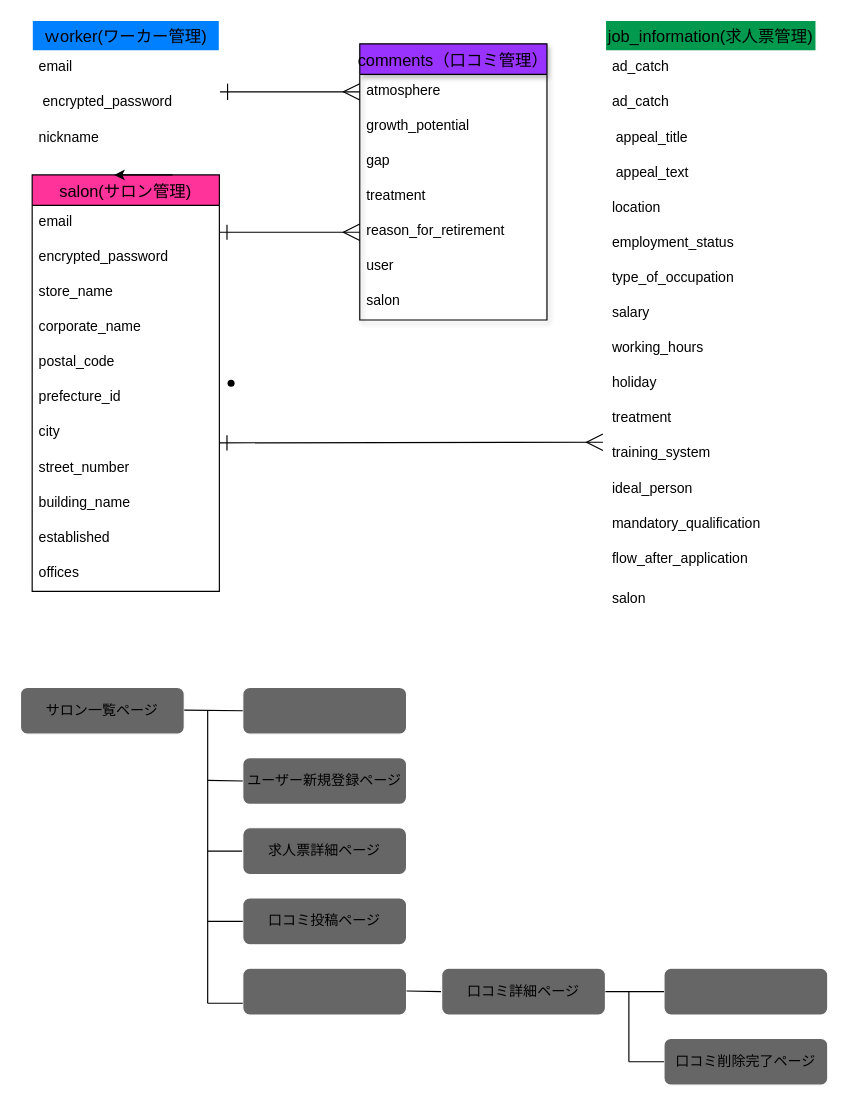
This 848x1106 diagram has some shape labels left out. The centre of each missing label's shape, as x and y in pixels:
"ユーザーログインページ" belongs at point 324,710.
"口コミ一覧ページ" belongs at point 324,991.
"口コミ編集ページ" belongs at point 745,991.
